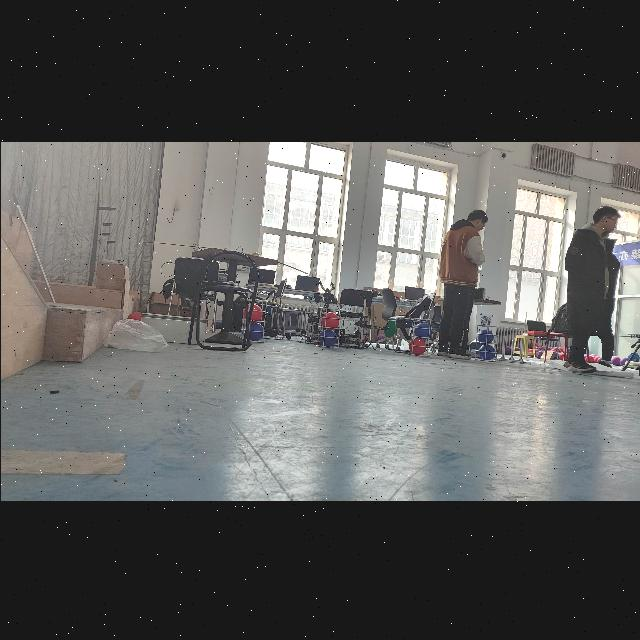B: (243, 320, 263, 340), (318, 328, 337, 346), (414, 321, 431, 337), (478, 343, 494, 359), (476, 328, 494, 342)
R: (240, 302, 262, 322), (409, 336, 425, 354), (320, 311, 338, 327)
S: (238, 296, 270, 344), (316, 304, 342, 350), (406, 315, 434, 357), (472, 322, 501, 362)
